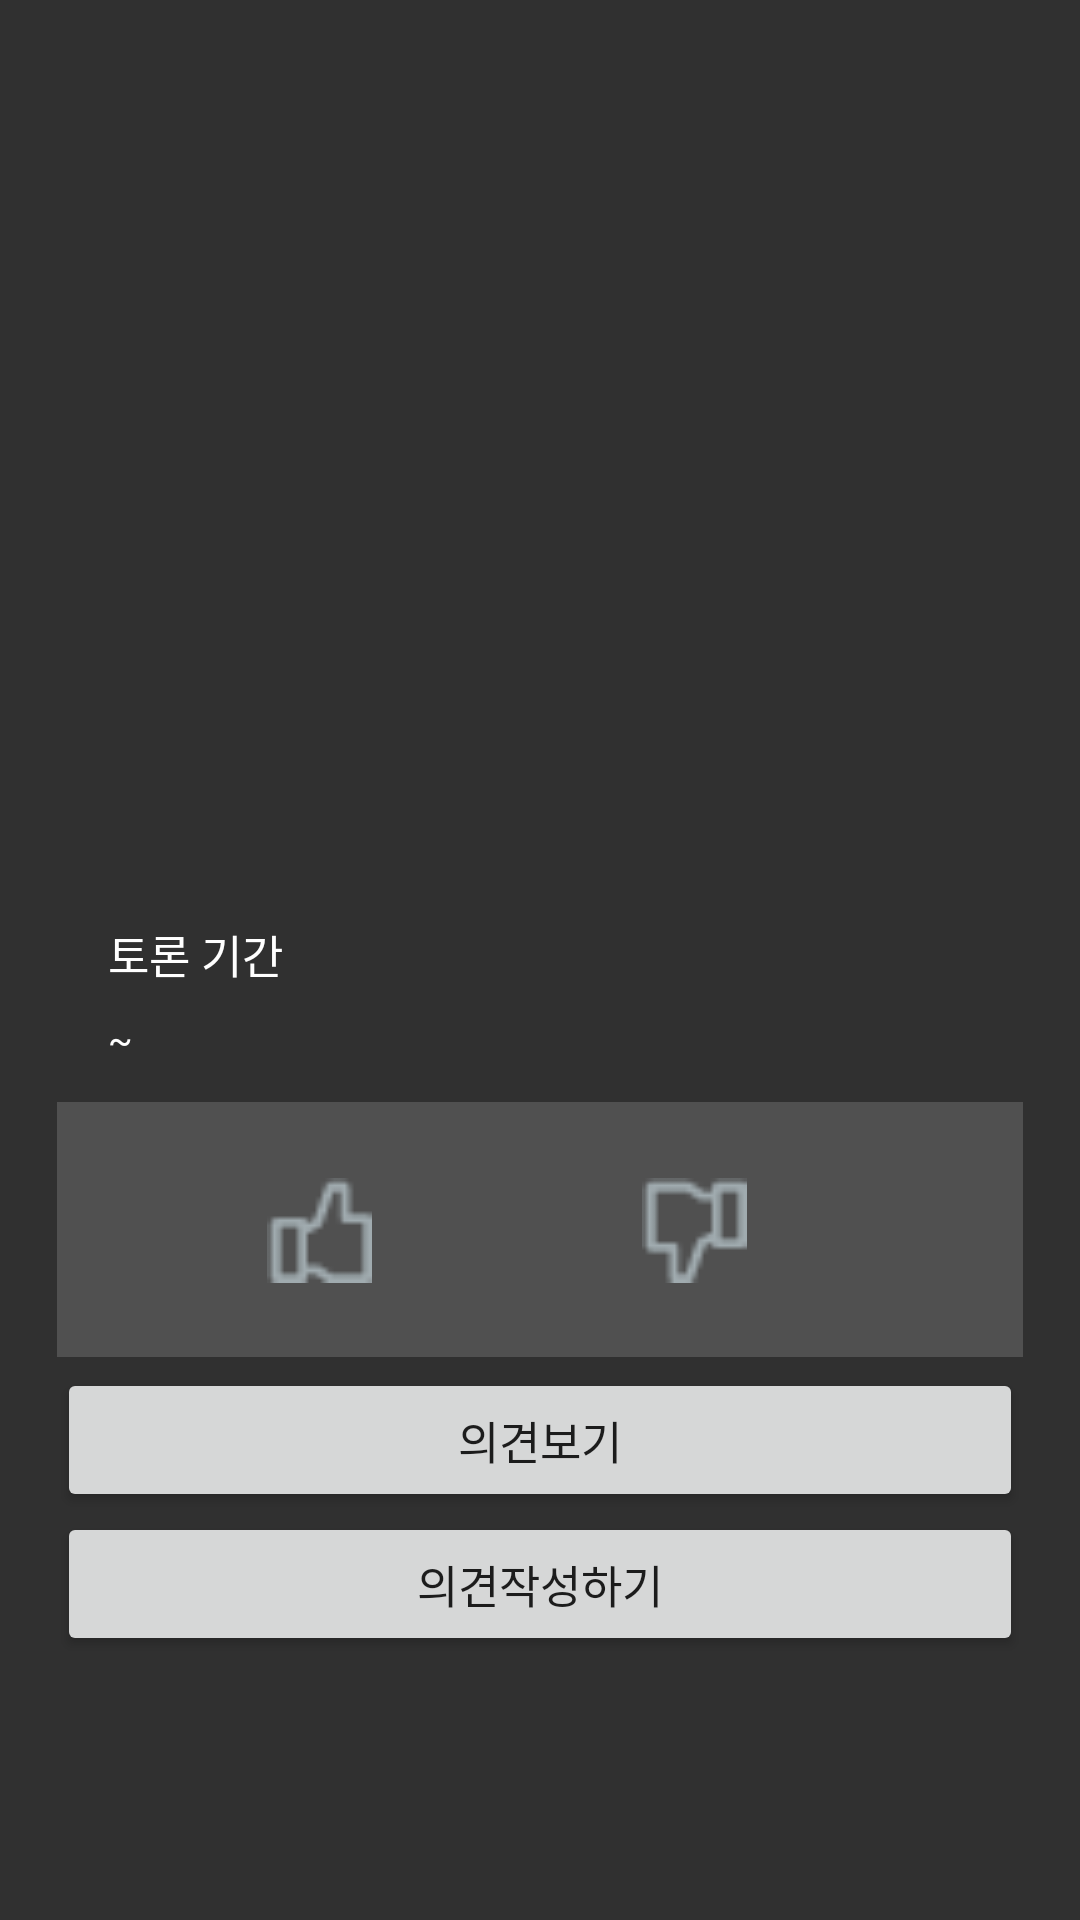

Icon click points for this 1080px×1920px phone screenshot, format point (x, y):
hate before: point (696, 1232)
like before: point (321, 1232)
